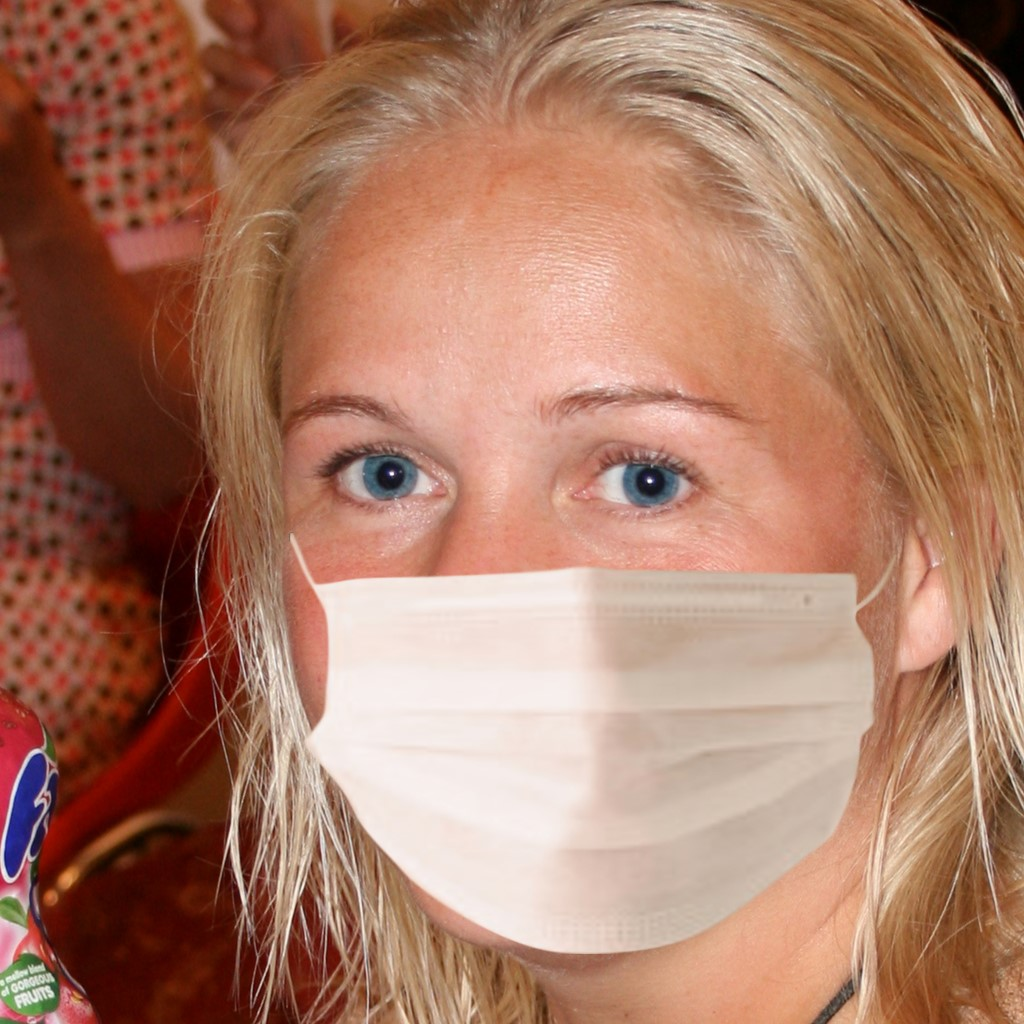con_mascara: (262, 62, 930, 977)
